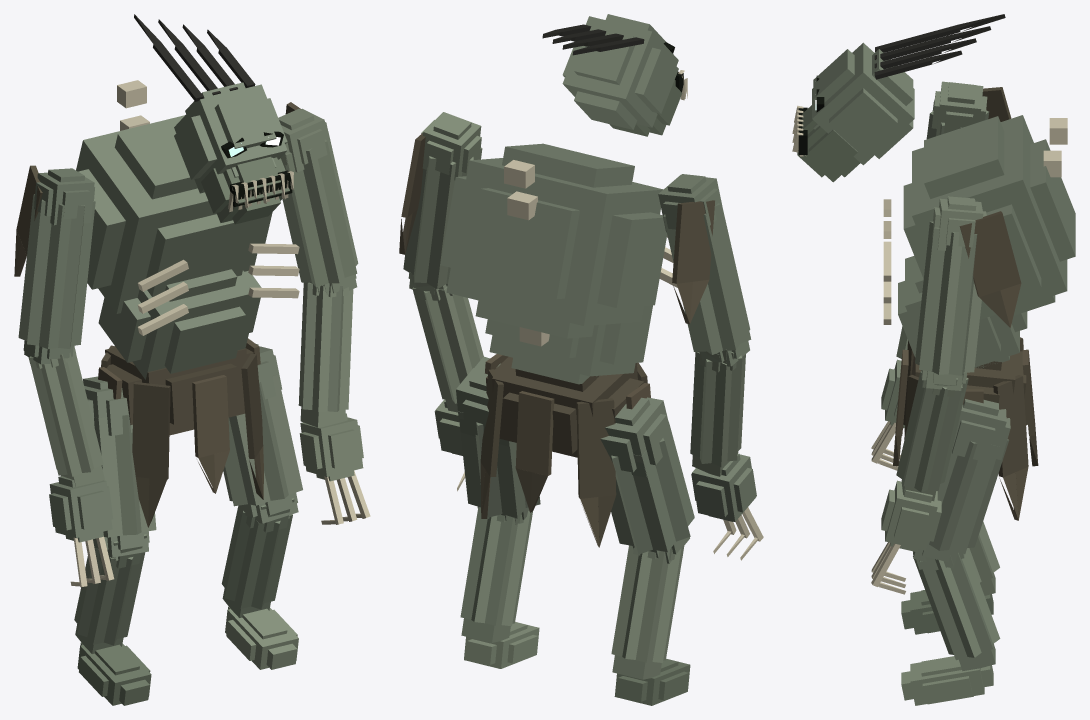
3 views of the same model, side by side, from view 1: azimuth 30°, elevation 25°; view 2: azimuth 150°, elevation 25°; view 3: azimuth 270°, elevation 25° (orthographic). The views are drawn at different scales.
Visible parts, largest first — view 1: CryptGhoul; view 2: CryptGhoul; view 3: CryptGhoul.
Boxes of the visible parts, x1,y1,x2,y2 form: CryptGhoul: (14, 14, 370, 705); CryptGhoul: (399, 14, 763, 705); CryptGhoul: (792, 14, 1075, 705).
Size of the model in its own units: 0.7051 by 1.31 by 0.5276.
